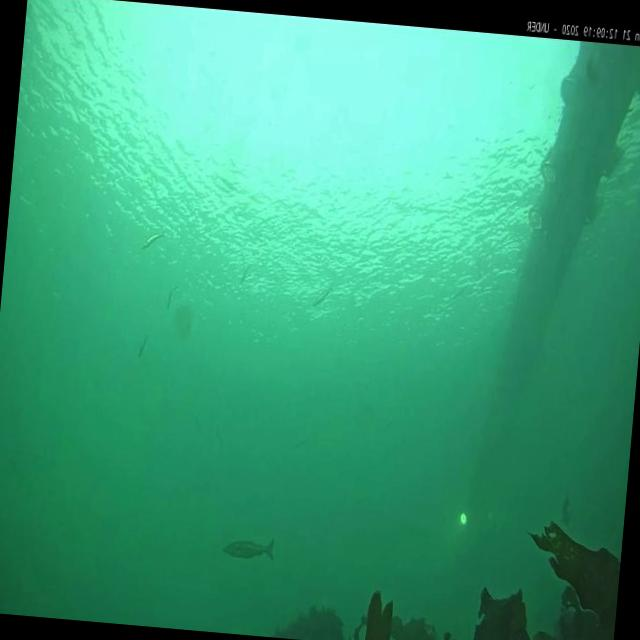fish: (222, 530, 276, 560), (559, 492, 575, 528), (141, 229, 166, 251), (313, 282, 333, 308), (238, 258, 252, 286), (166, 284, 178, 312), (137, 334, 147, 360)
